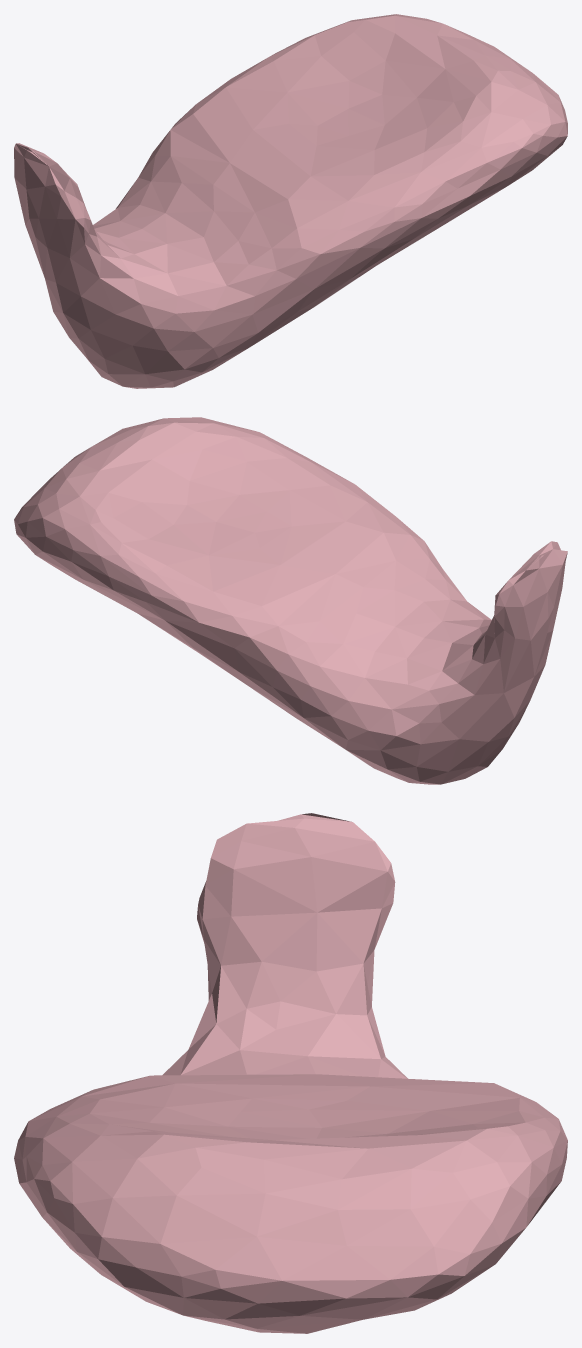
3 renders of one model, top to bottom at view 1: azimuth 30°, elevation 25°; view 2: azimuth 150°, elevation 25°; view 3: azimuth 270°, elevation 25°, orthographic. The views are drawn at different scales.
Visible parts, largest first — view 1: 599.obj; view 2: 599.obj; view 3: 599.obj.
Boxes of the visible parts, bbox=[...] form: 599.obj: bbox=[14, 14, 567, 388]; 599.obj: bbox=[14, 417, 567, 784]; 599.obj: bbox=[14, 813, 567, 1333].
Bounding box in the file's own units: 1361 × 654 × 816.
